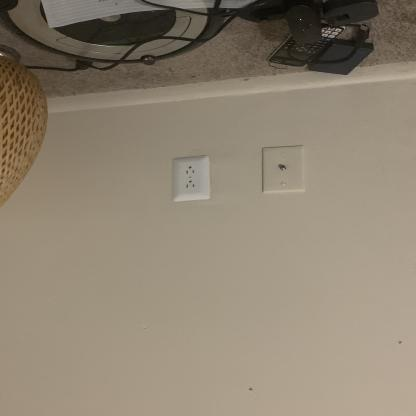OUTLET: (172, 157, 209, 202)
